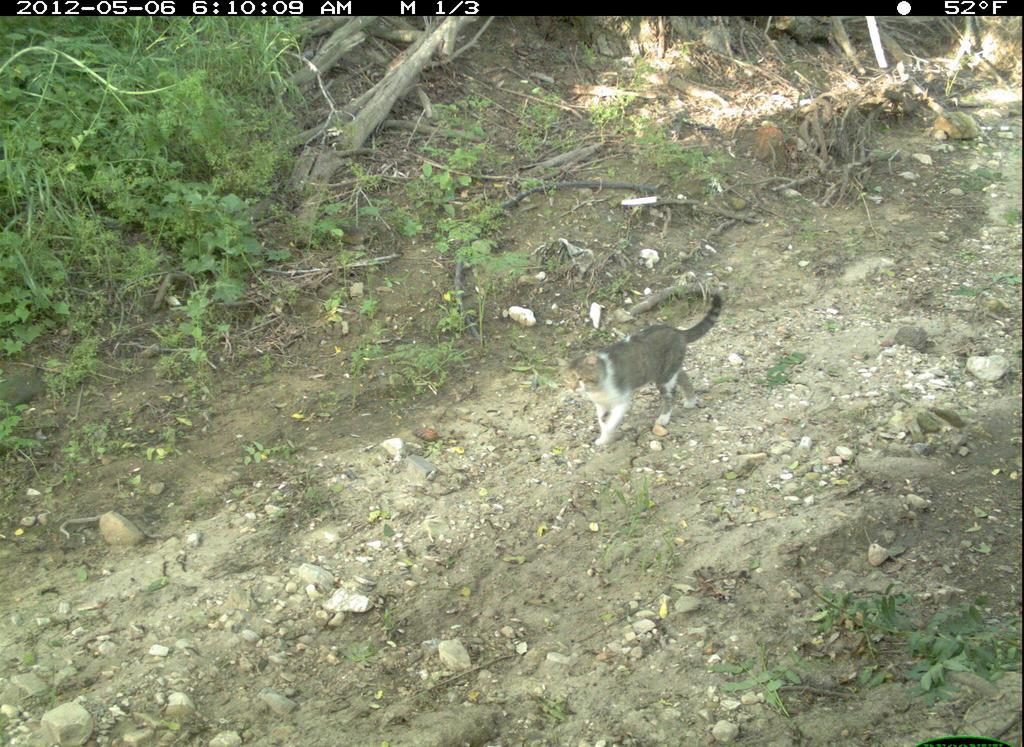cat: (548, 292, 766, 455)
